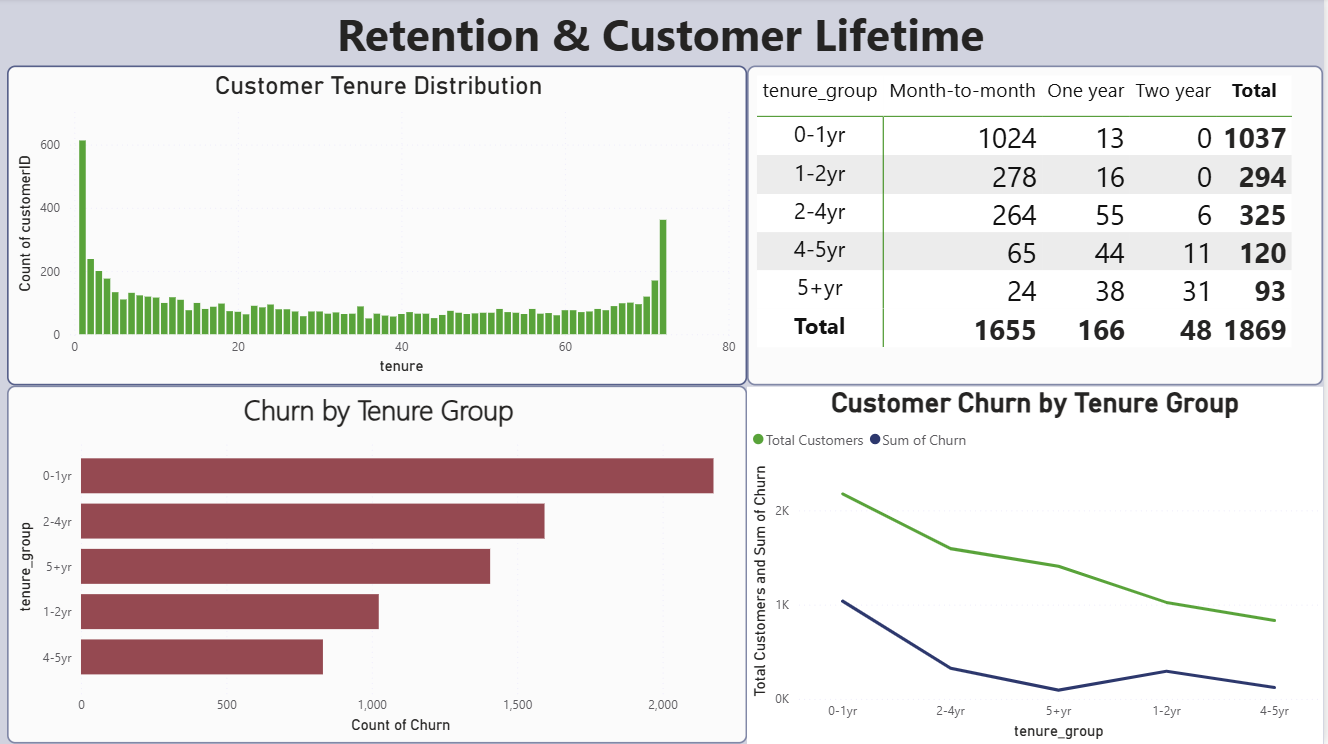

What the dashboard file says about the page in this screenshot:
{"tool":"powerbi","page":{"name":"Retention & Customer Lifetime","canvas":[1280,720],"ordinal":2},"visuals":[{"type":"pivotTable","title":"Churn by Internet Service","fields":{"Rows":["cleaned_churn_data.tenure_group"],"Columns":["cleaned_churn_data.Contract"],"Values":["Sum(cleaned_churn_data.Churn)"]},"box":[724.3,65.7,555.7,308.6],"z":0},{"type":"textbox","box":[307.1,0,665.7,82.9],"z":1000},{"type":"clusteredColumnChart","title":"Customer Tenure Distribution","fields":{"Category":["cleaned_churn_data.tenure"],"Y":["CountNonNull(cleaned_churn_data.customerID)"]},"box":[10,65.7,714.3,308.6],"z":2000},{"type":"clusteredBarChart","title":"Churn by Tenure Group","fields":{"Y":["CountNonNull(cleaned_churn_data.Churn)"],"Category":["cleaned_churn_data.tenure_group"]},"box":[10,374.3,714.3,345.7],"z":3000},{"type":"lineChart","title":"Customer Churn by Tenure Group","fields":{"Y":["cleaned_churn_data.Total Customers","Sum(cleaned_churn_data.Churn)"],"Category":["cleaned_churn_data.tenure_group"]},"box":[724,375,556,345],"z":4000}]}

Visuals, with their boxes in screenshot pixels (x1, y1, x2, y2), scaled from the page's 1280x720 canvas onto the 1328x744 screenshot:
"Churn by Internet Service" pivotTable: pyautogui.locateOnScreen(751, 68, 1327, 387)
textbox: pyautogui.locateOnScreen(319, 0, 1009, 86)
"Customer Tenure Distribution" clusteredColumnChart: pyautogui.locateOnScreen(10, 68, 751, 387)
"Churn by Tenure Group" clusteredBarChart: pyautogui.locateOnScreen(10, 387, 751, 743)
"Customer Churn by Tenure Group" lineChart: pyautogui.locateOnScreen(751, 388, 1327, 743)
